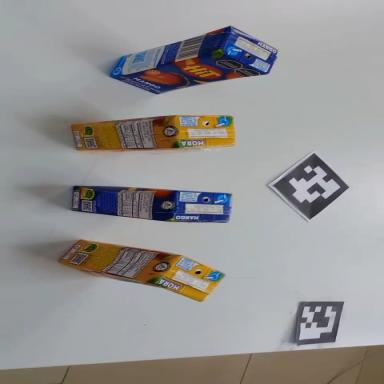HIT-MANGO: (106, 18, 281, 102), (71, 183, 232, 225)
HIT-MORA: (56, 236, 227, 305), (72, 114, 235, 150)
cara_F: (111, 45, 265, 102)
